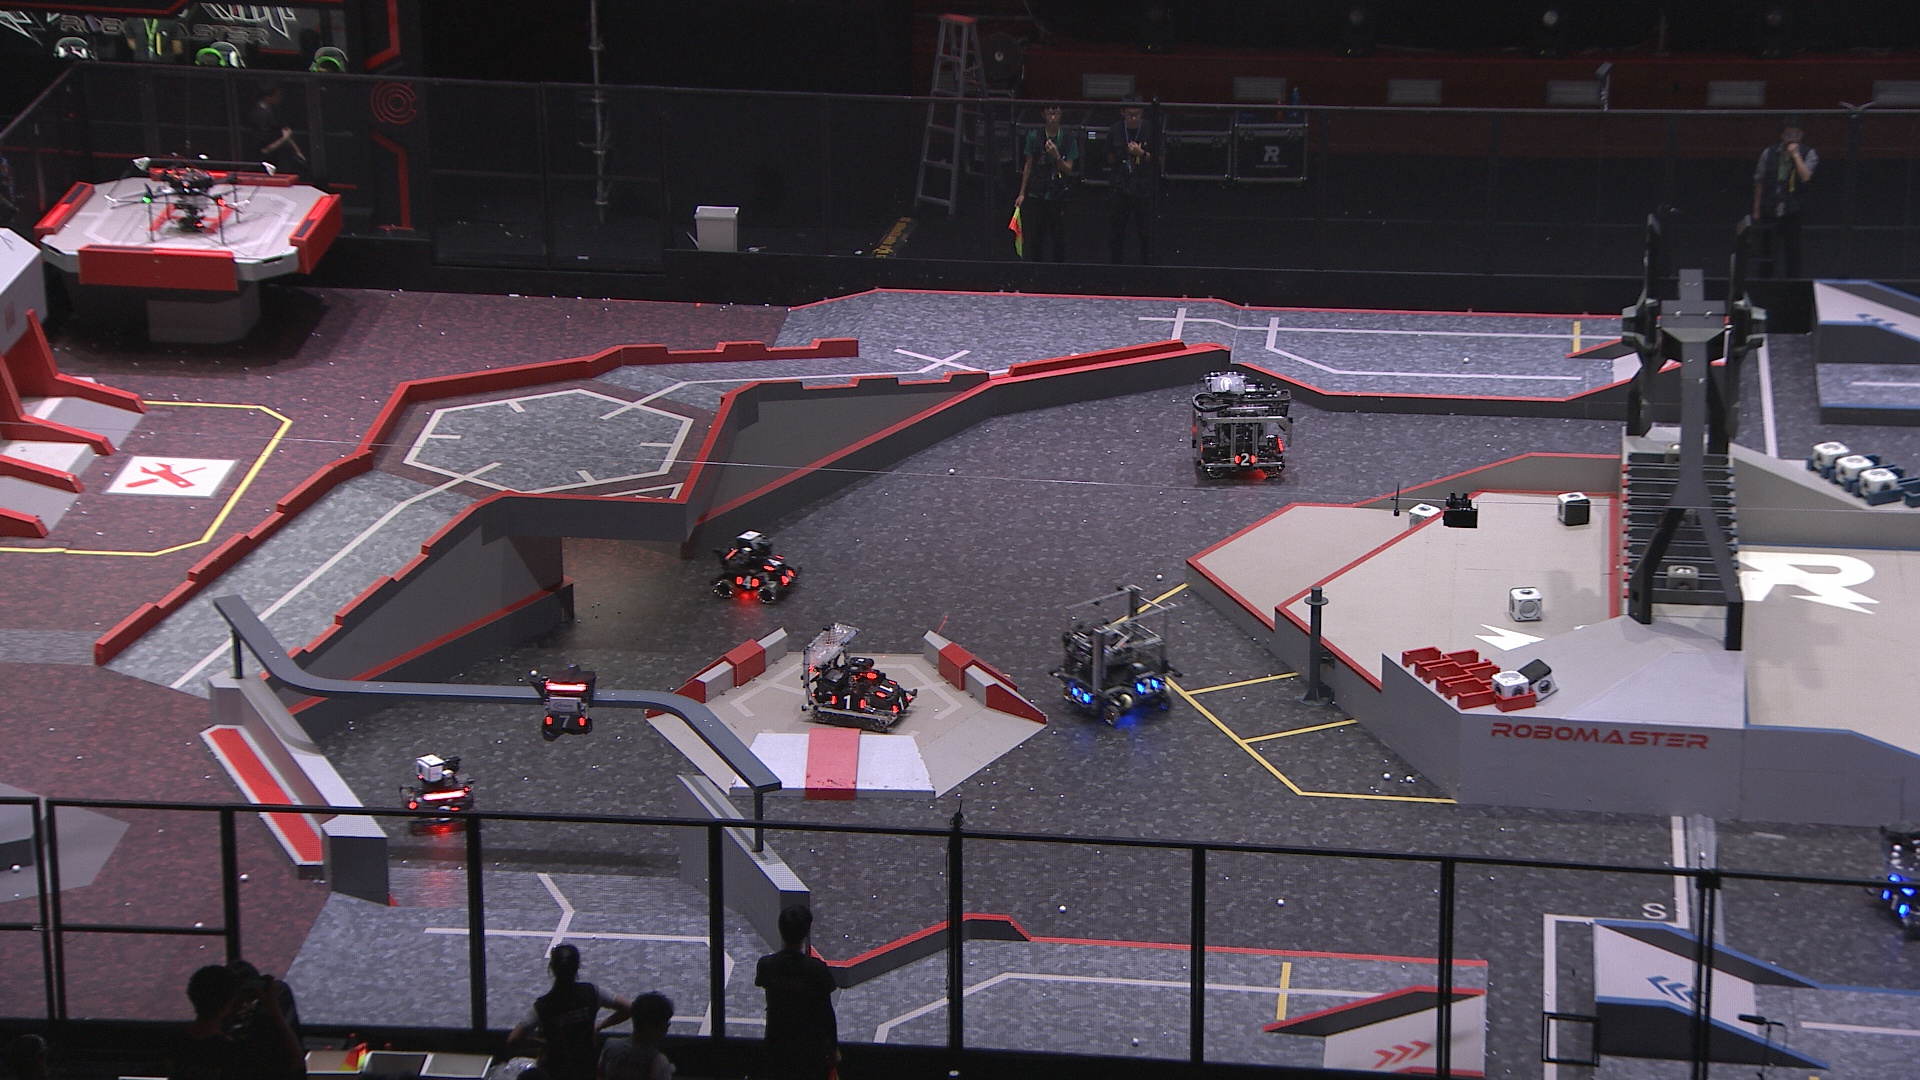armor: (541, 711, 585, 732), (1879, 889, 1908, 916), (828, 694, 868, 712), (1135, 674, 1160, 695), (775, 568, 799, 588), (889, 694, 913, 713), (735, 574, 761, 591), (761, 553, 782, 572), (874, 679, 895, 698), (1069, 687, 1091, 705), (1234, 452, 1258, 467)
car: (1048, 582, 1174, 725), (799, 622, 918, 732), (1185, 378, 1292, 483), (1859, 818, 1920, 938), (398, 752, 483, 836), (712, 529, 800, 605)
watcher: (531, 665, 595, 742)
